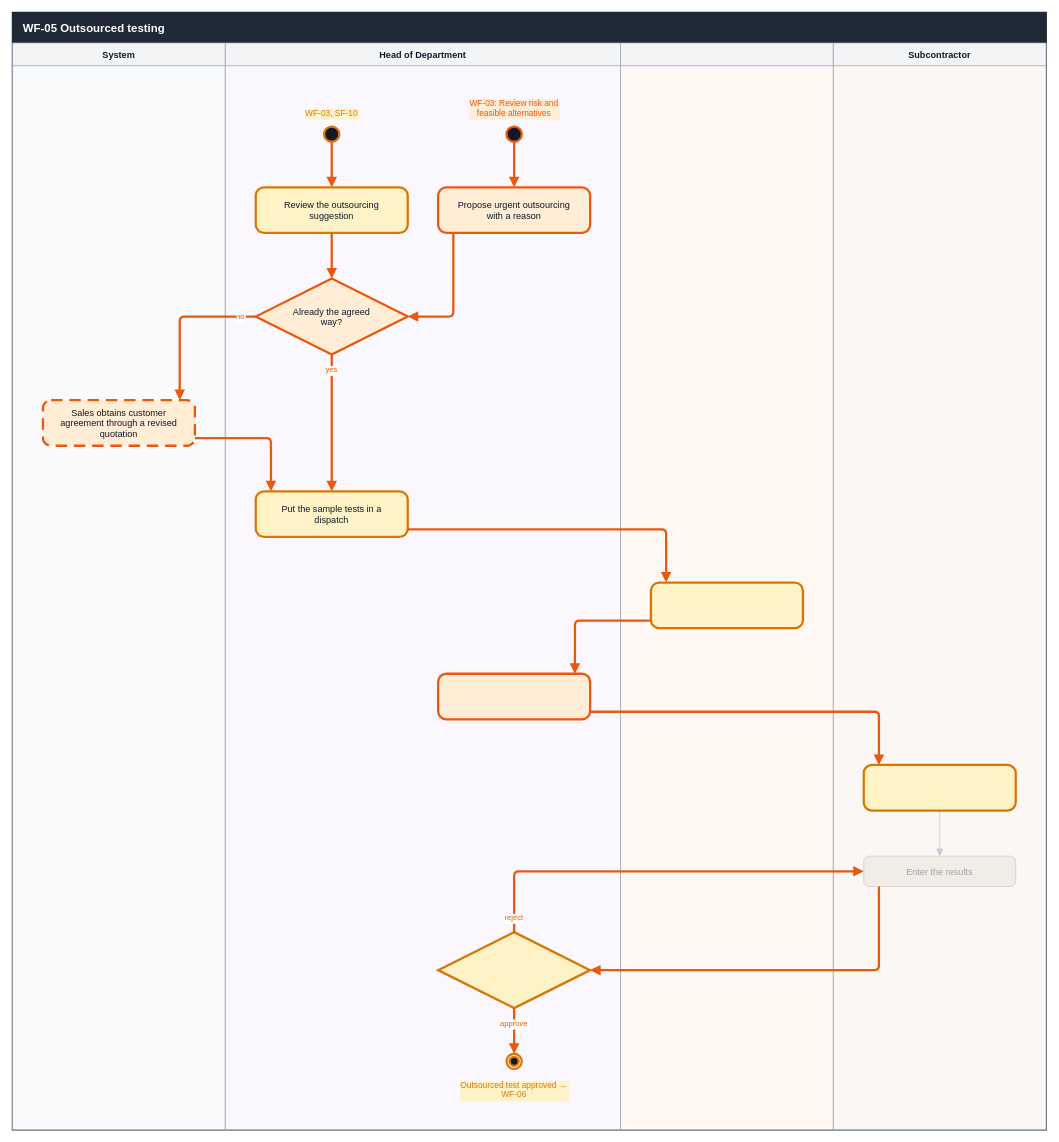
Some shapes in this 1059 by 1142 pixel diagram are drawn without their labels. The box of each missing label's shape, as (x1, y1, x2, y2) in pixels:
Approve the result?: (437, 931, 591, 1009)
Carry the dispatch to the subcontractor: (649, 581, 804, 629)
Record when it is sent and the expected date: (437, 672, 591, 720)
Sample Delivery Staff: (620, 42, 833, 1130)
See the dispatch and its tests: (862, 763, 1016, 811)
